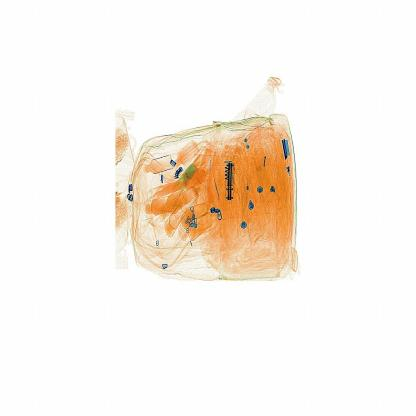scissors: (218, 155, 247, 219)
